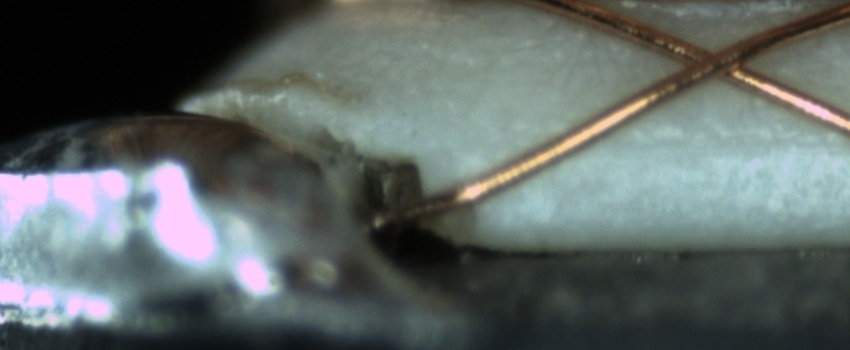CL: (665, 32, 769, 91)
DL: (596, 112, 849, 169)
